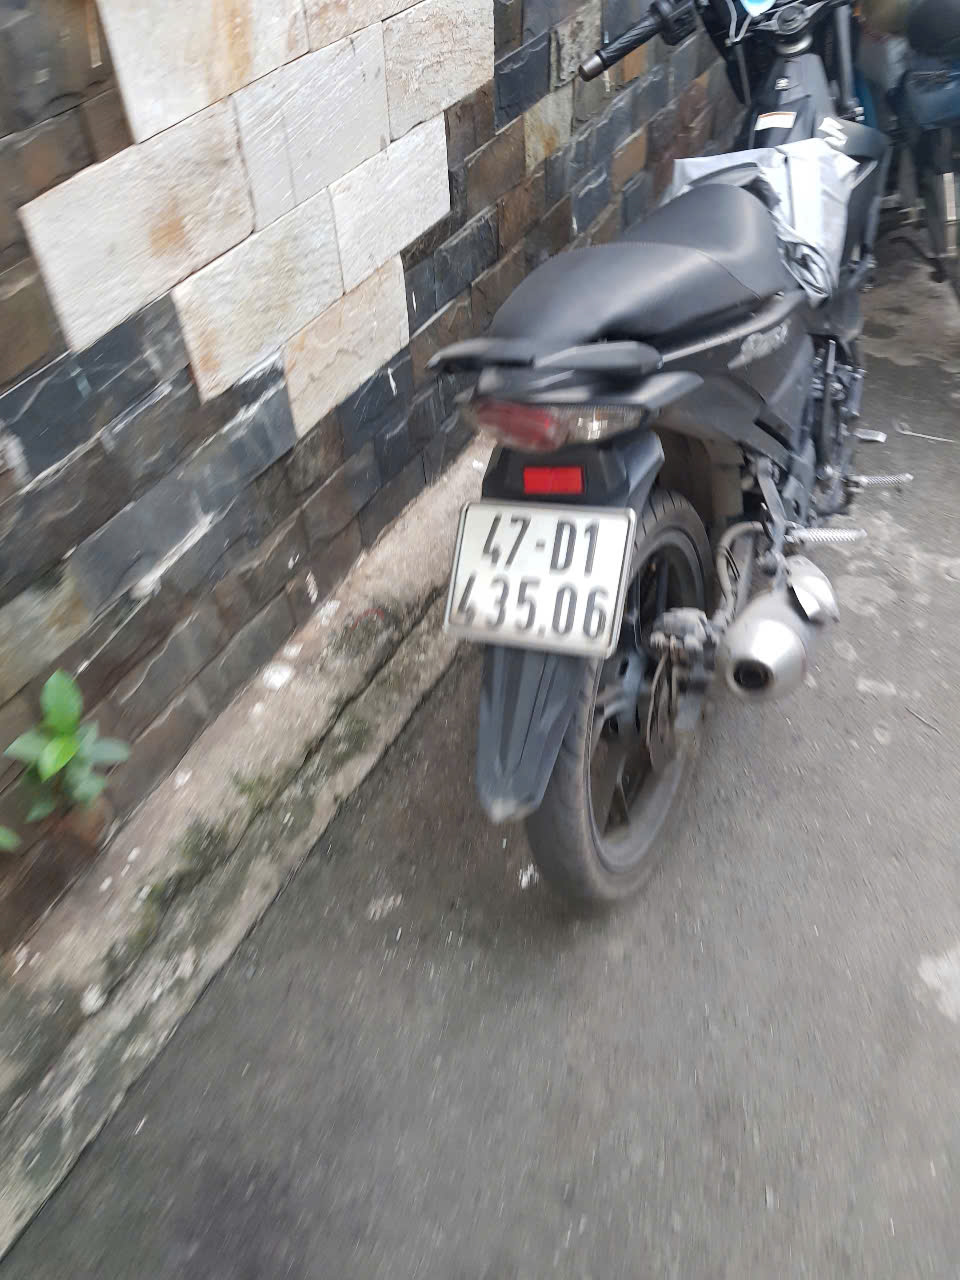bien_so: (446, 502, 629, 653)
